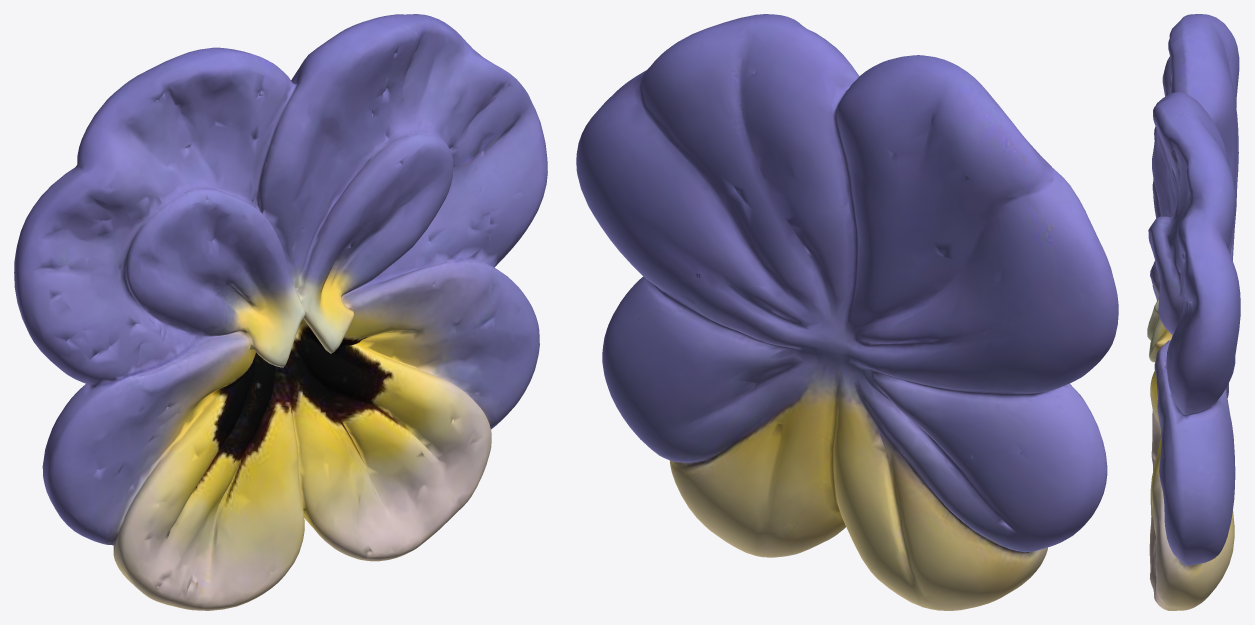
File: purple_pansy.glb
3 views of the same model, side by side, from view 1: azimuth 30°, elevation 25°; view 2: azimuth 150°, elevation 25°; view 3: azimuth 270°, elevation 25° (orthographic). The views are drawn at different scales.
Parts seen in each view (by area): view 1: model; view 2: model; view 3: model.
Boxes of the visible parts, box(x1,y1,x2,y2) form: model: box(14, 14, 547, 610); model: box(576, 14, 1118, 610); model: box(1147, 14, 1240, 610).
Bounding box in the file's own units: 1.9 × 1.88 × 0.3125.
1 material, 1 textured.
